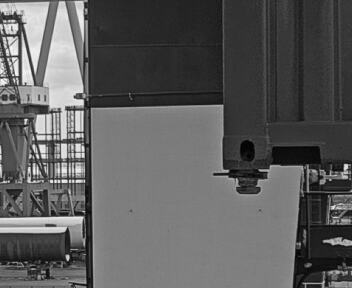twist_lock_1: (222, 164, 272, 203)
